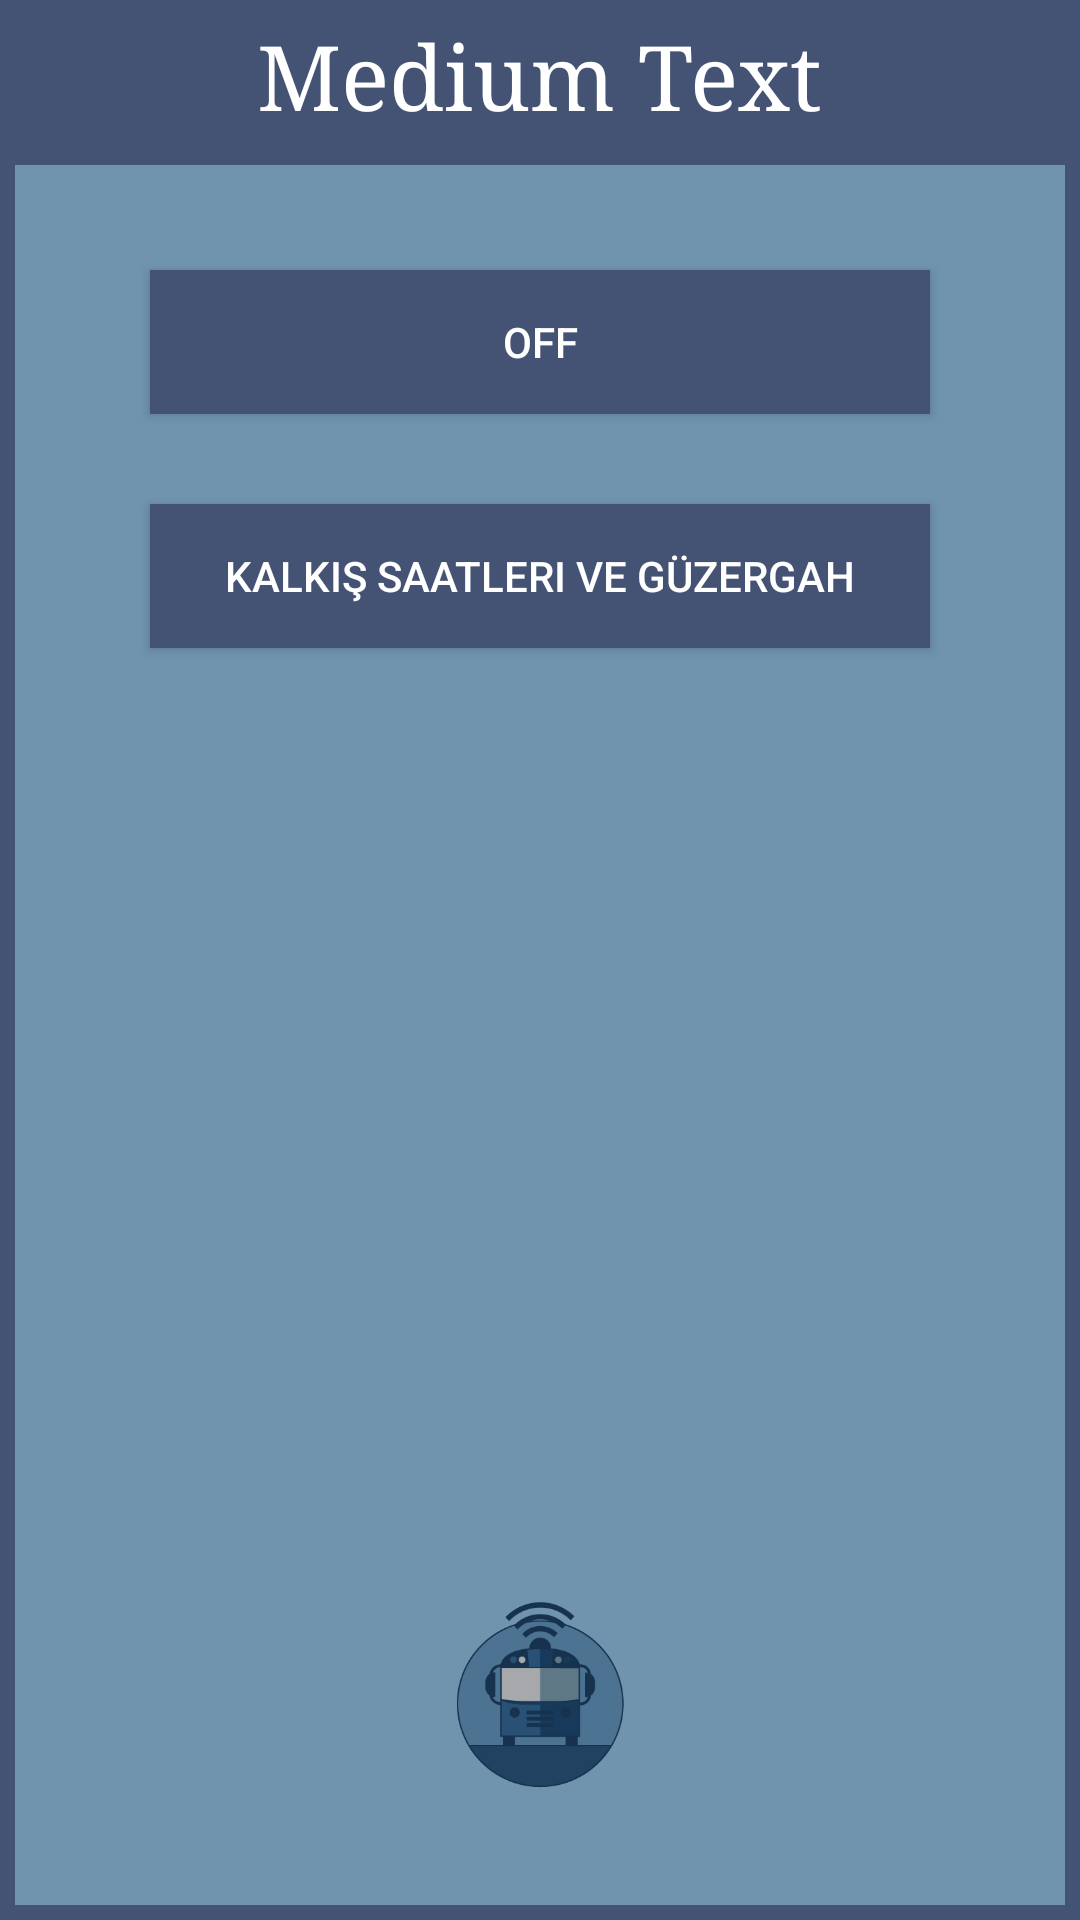

Icon click points for this 1080×1920 phone screenshot, format [x,y]:
buswifi: [540,1694]
